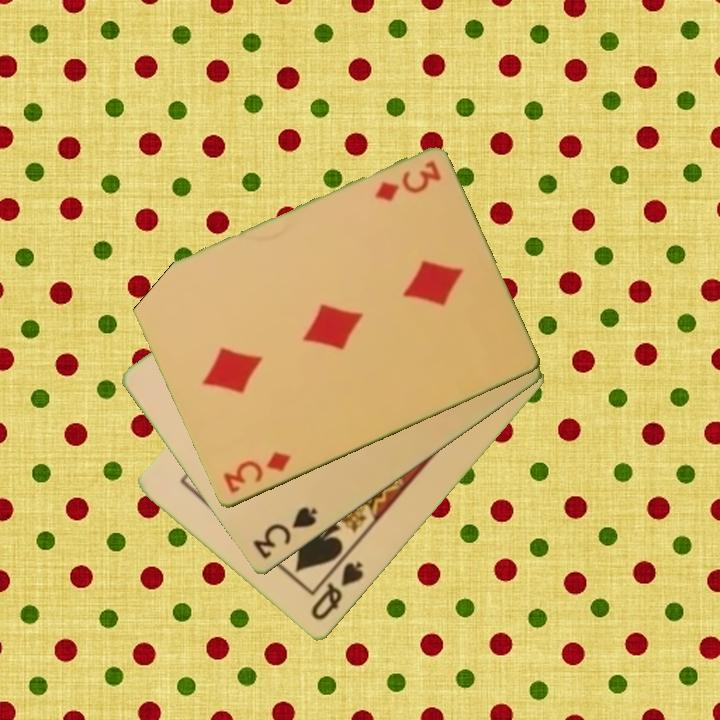3d: (219, 448, 294, 497), (370, 157, 444, 206)
3s: (249, 503, 321, 563)
Qs: (307, 558, 367, 624)
